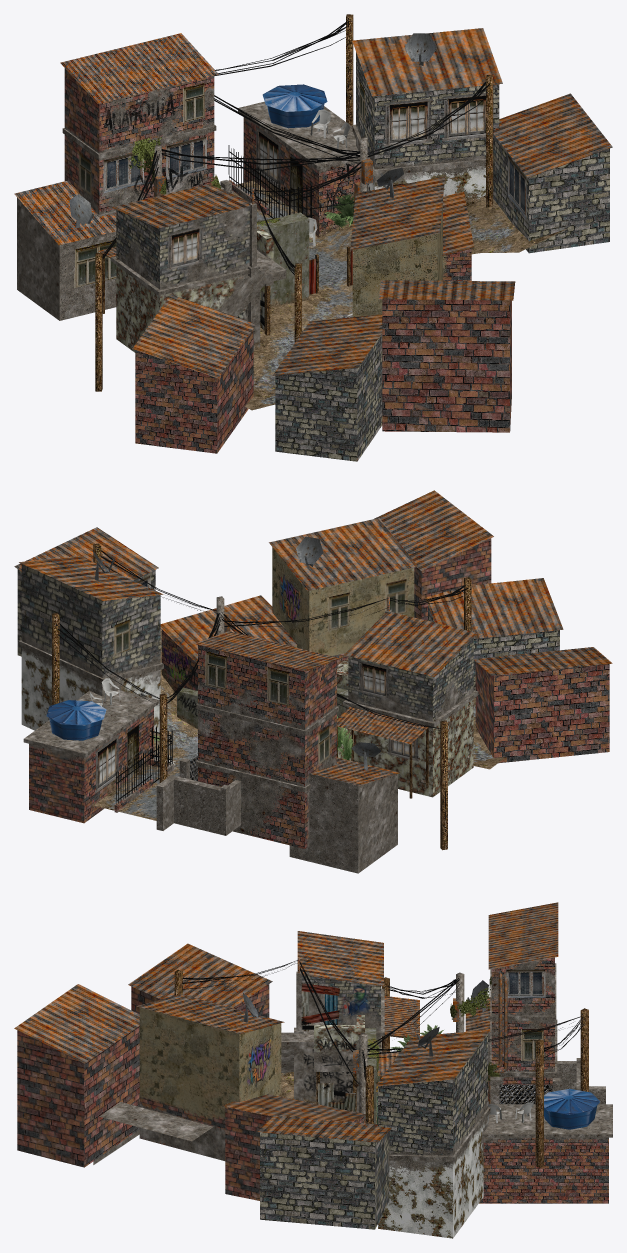
The model's file is Environment.obj.
3 renders of one model, top to bottom at view 1: azimuth 30°, elevation 25°; view 2: azimuth 150°, elevation 25°; view 3: azimuth 270°, elevation 25°, orthographic. The views are drawn at different scales.
Visible parts, largest first — view 1: Houses_5, Houses_3, Houses_1, Houses_2, Houses_4, Gound, Props_4, Props_3, Props_3_2, Houses_3_1, Plants_1, Plants_2; view 2: Houses_1, Houses_3, Houses_5, Houses_4, Houses_2, Props_4, Gound, Props_1, Props_3_2, Props_3, Houses_3_1; view 3: Houses_3, Houses_5, Houses_4, Houses_2, Houses_1, Props_4, Props_3_2, Props_1, Props_3, Props_3_1, Houses_1_1, Plants_2.
Boxes of the visible parts, <box> form: Houses_5: <box>132,280,515,461</box>; Houses_3: <box>228,28,612,253</box>; Houses_1: <box>14,33,231,320</box>; Houses_2: <box>111,183,352,352</box>; Houses_4: <box>350,176,473,316</box>; Gound: <box>232,180,568,410</box>; Props_4: <box>95,14,493,391</box>; Props_3: <box>69,33,436,316</box>; Props_3_2: <box>262,84,327,128</box>; Houses_3_1: <box>228,145,313,218</box>; Plants_1: <box>210,174,354,229</box>; Plants_2: <box>128,137,166,194</box>; Houses_1: <box>156,631,399,873</box>; Houses_3: <box>14,527,174,823</box>; Houses_5: <box>374,490,612,763</box>; Houses_4: <box>160,518,417,693</box>; Houses_2: <box>177,610,478,797</box>; Props_4: <box>52,543,471,850</box>; Gound: <box>93,628,504,820</box>; Props_1: <box>337,707,428,798</box>; Props_3_2: <box>46,700,106,740</box>; Props_3: <box>90,536,381,769</box>; Houses_3_1: <box>116,726,172,804</box>; Houses_3: <box>257,1029,612,1238</box>; Houses_5: <box>14,943,272,1167</box>; Houses_4: <box>93,994,365,1200</box>; Houses_2: <box>281,931,488,1124</box>; Houses_1: <box>465,902,605,1104</box>; Props_4: <box>174,958,588,1167</box>; Props_3_2: <box>544,1088,600,1129</box>; Props_1: <box>376,996,419,1124</box>; Props_3: <box>243,980,533,1123</box>; Props_3_1: <box>488,973,507,1104</box>; Houses_1_1: <box>499,1084,552,1104</box>; Plants_2: <box>450,977,491,1019</box>.
Size of the model in its own units: 18.2 by 8.11 by 18.94.
